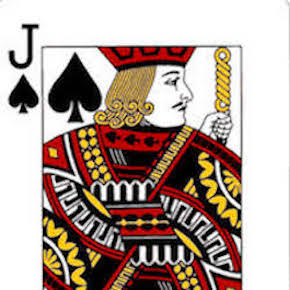JackOfSpades: (1, 1, 289, 290)
